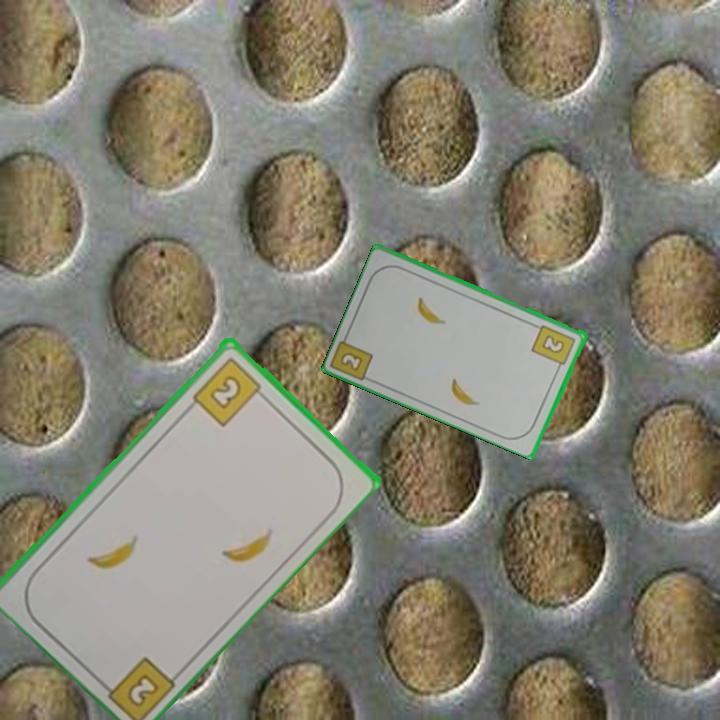2b: (189, 353, 270, 429), (529, 321, 579, 373), (123, 670, 162, 710), (337, 348, 366, 374)
